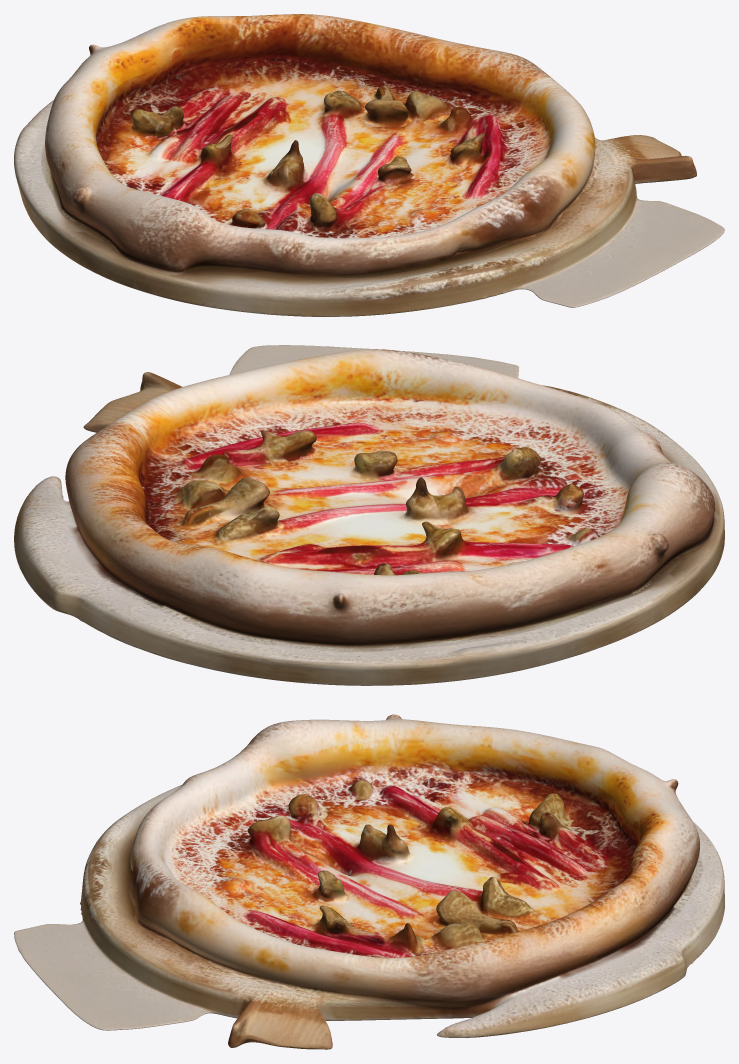
File: pizzamodel.glb
3 views of the same model, one above another, from view 1: azimuth 30°, elevation 25°; view 2: azimuth 150°, elevation 25°; view 3: azimuth 270°, elevation 25° (orthographic). The views are drawn at different scales.
Visible parts, largest first — view 1: material; view 2: material; view 3: material.
Boxes of the visible parts, x1,y1,x2,y2 form: material: [14, 14, 724, 316]; material: [14, 345, 724, 685]; material: [14, 714, 724, 1049].
Bounding box in the file's own units: 0.1889 × 0.0244 × 0.2.
Materials: 1 (1 with a texture image).
